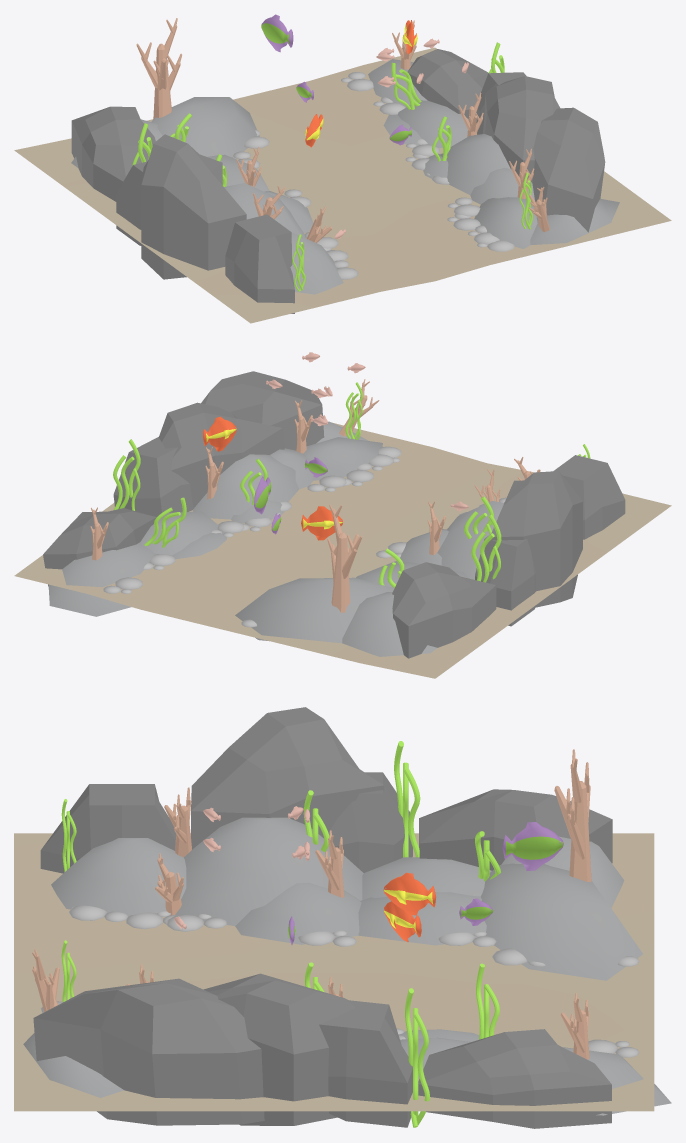
Rendered from underwater.glb.
3 renders of one model, top to bottom at view 1: azimuth 30°, elevation 25°; view 2: azimuth 150°, elevation 25°; view 3: azimuth 270°, elevation 25°, orthographic. The views are drawn at different scales.
Parts seen in each view (by area): view 1: Underwater Scene.001; view 2: Underwater Scene.001; view 3: Underwater Scene.001.
Part boxes in pixels (x1,y1,x2,y2): Underwater Scene.001: (14, 14, 671, 323); Underwater Scene.001: (14, 352, 671, 678); Underwater Scene.001: (14, 707, 671, 1128).
Bounding box in the file's own units: 2 × 0.7614 × 2.
Materials: 1 (1 with a texture image).
